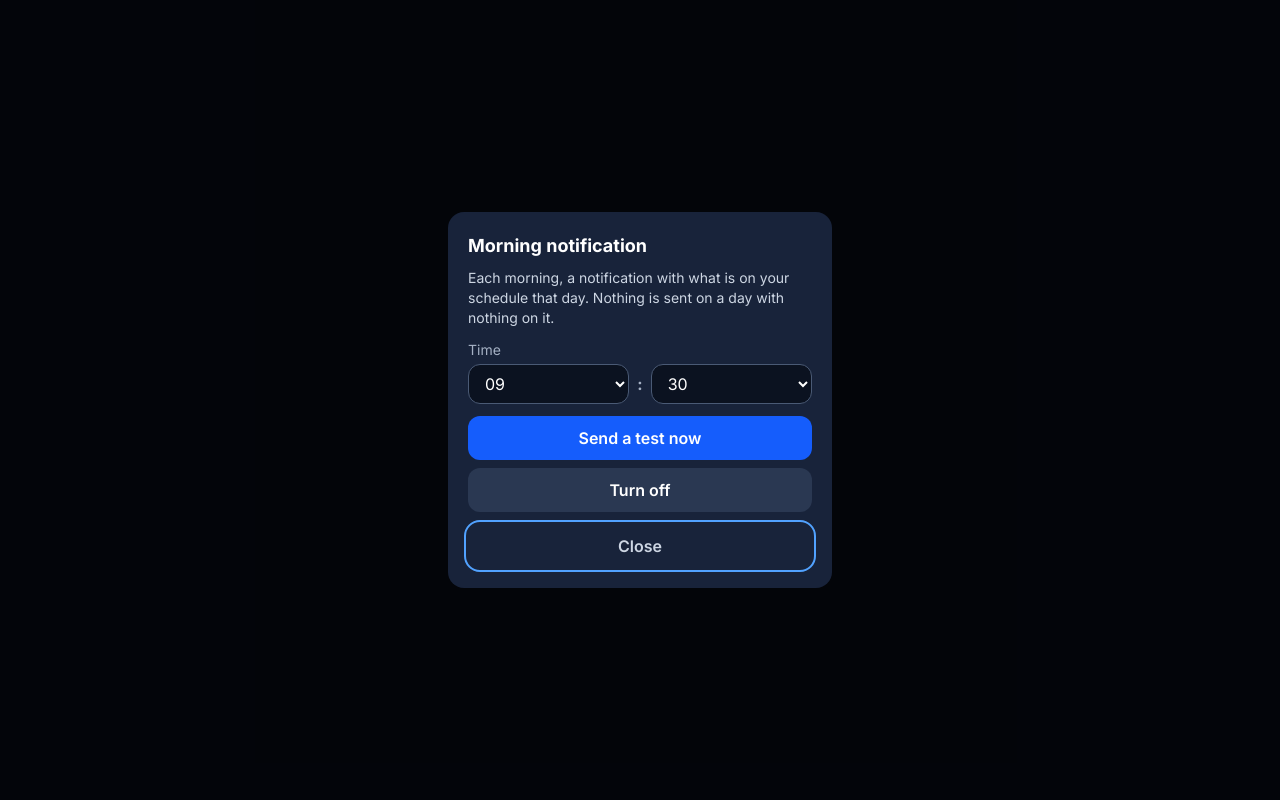
Test case: on › a failed test says so
The image size is (1280, 800).
What coordinates should you click on to do the following:
click the button "Send a test now"
I would click on:
 (640, 438)
Its box is [468, 416, 812, 460].
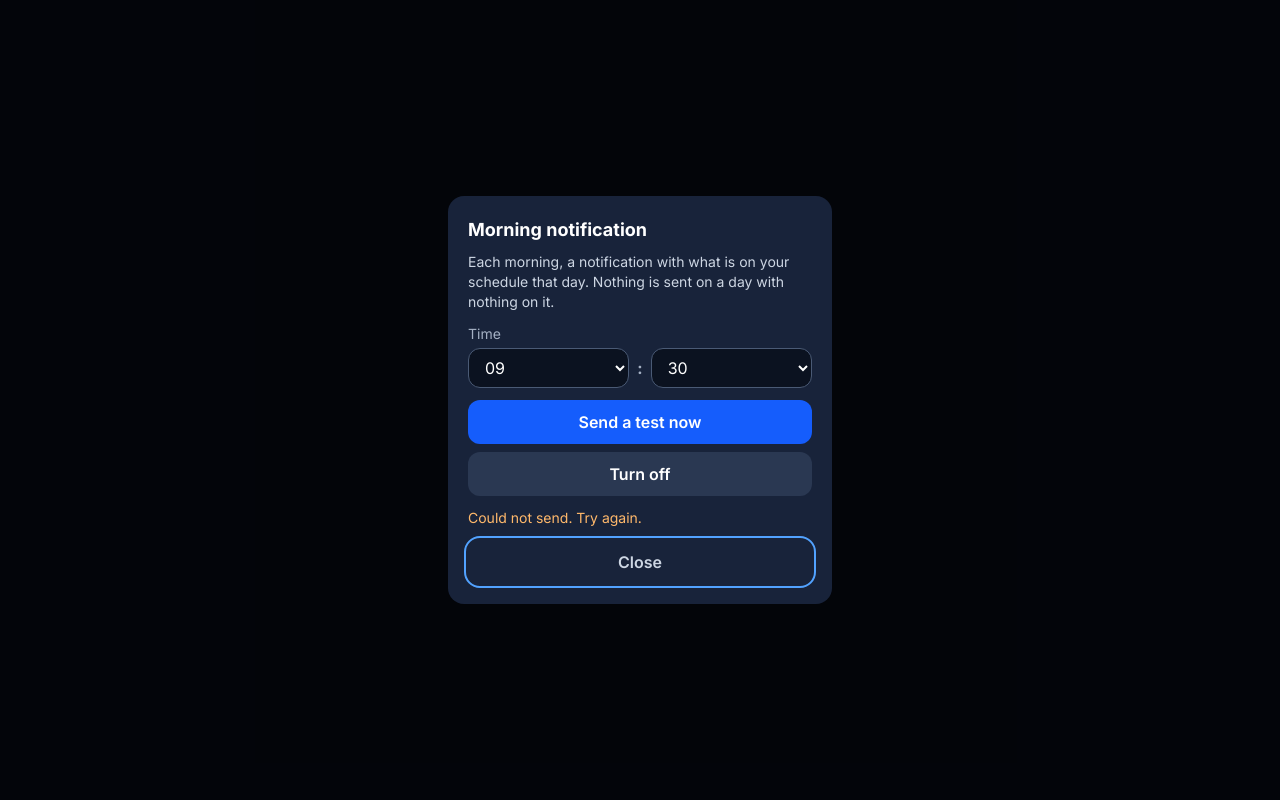
expect the message reads "Could not send. Try again.": met, box [468, 509, 642, 526]
